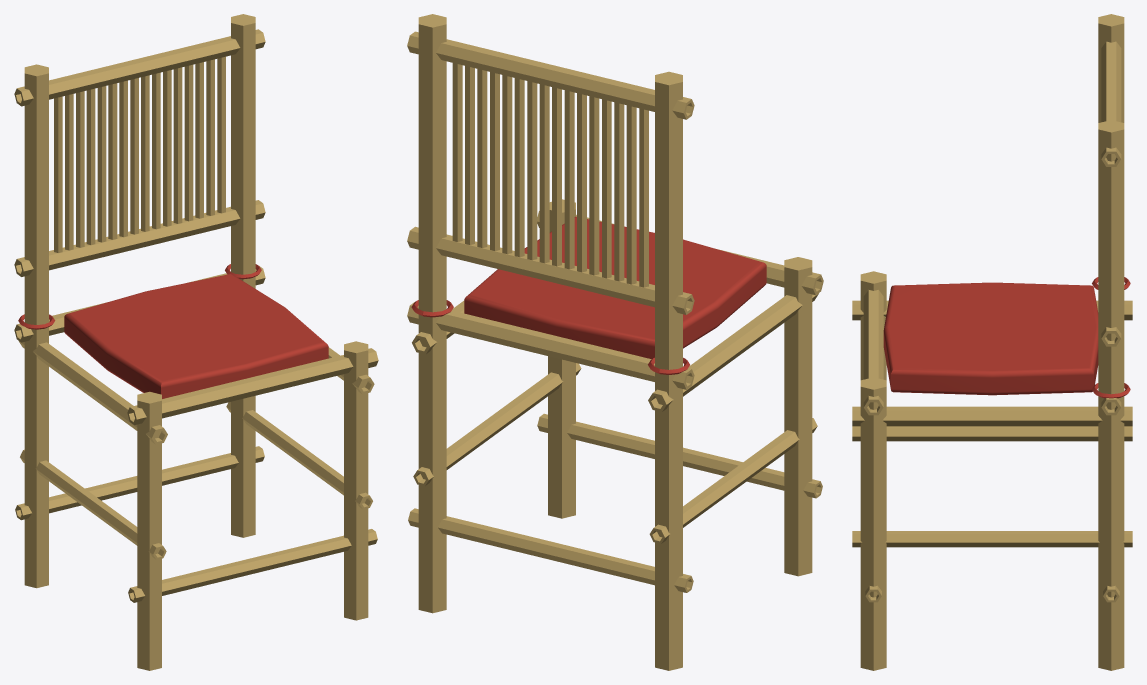
Rendered from ghe_tre_dem.far.glb.
3 views of the same model, side by side, from view 1: azimuth 30°, elevation 25°; view 2: azimuth 150°, elevation 25°; view 3: azimuth 270°, elevation 25° (orthographic). The views are drawn at different scales.
Parts seen in each view (by area): view 1: ghe_tre_dem; view 2: ghe_tre_dem; view 3: ghe_tre_dem.
Boxes of the visible parts, box(x1,y1,x2,y2) form: ghe_tre_dem: box(14, 14, 378, 670); ghe_tre_dem: box(407, 14, 823, 670); ghe_tre_dem: box(852, 14, 1132, 670).
Size of the model in its own units: 0.445 by 0.9 by 0.425.
